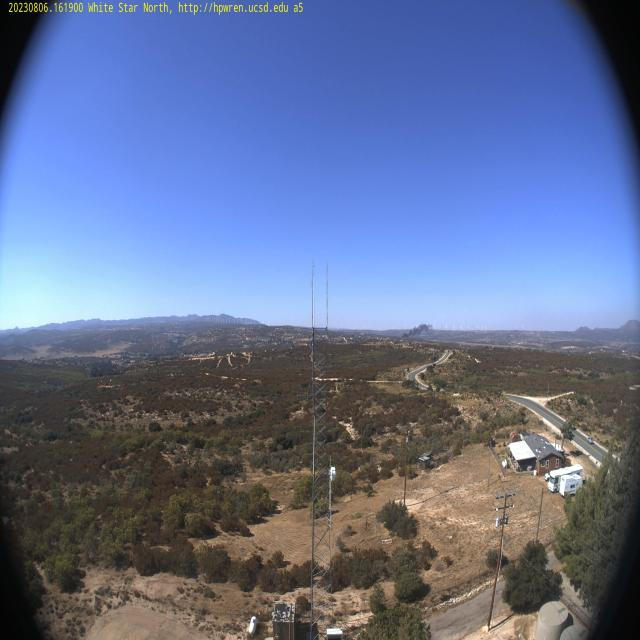smoke: (398, 319, 432, 342)
